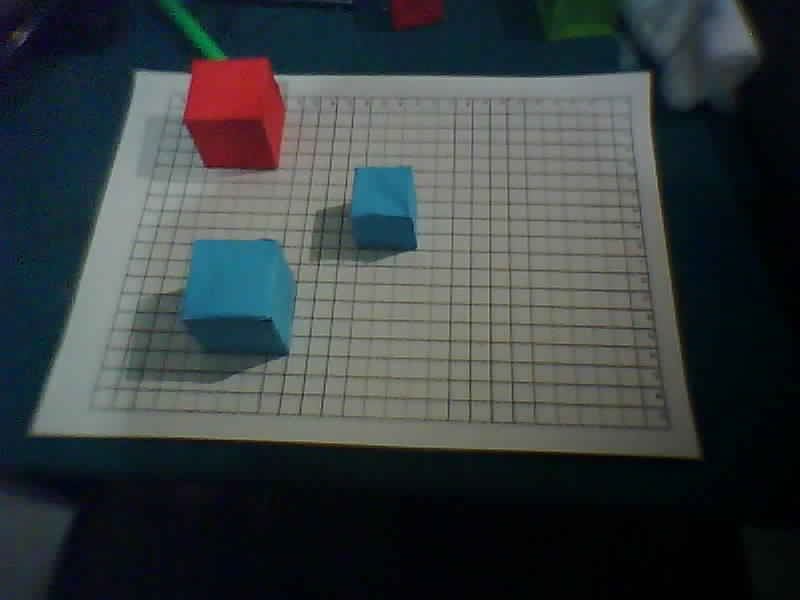LB: (85, 406, 93, 412)
LT: (167, 88, 175, 94)
RB: (668, 425, 676, 431)
RT: (628, 94, 636, 100)
